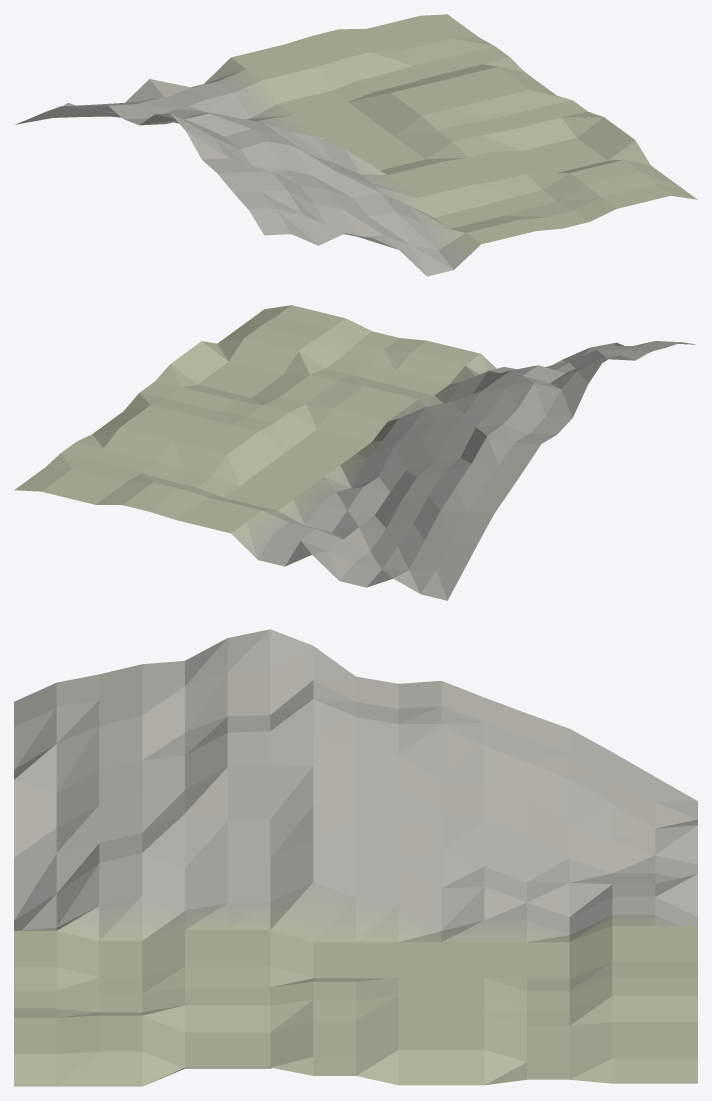
3 views of the same model, one above another, from view 1: azimuth 30°, elevation 25°; view 2: azimuth 150°, elevation 25°; view 3: azimuth 270°, elevation 25° (orthographic). The views are drawn at different scales.
Bounding box in the file's own units: 32 × 9.44 × 32.
